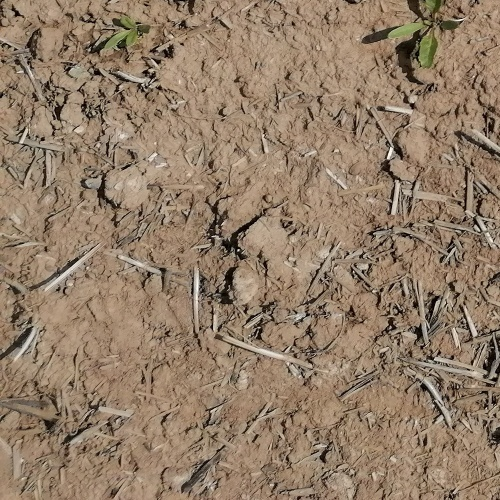beet: (387, 0, 466, 69), (101, 15, 151, 52)
